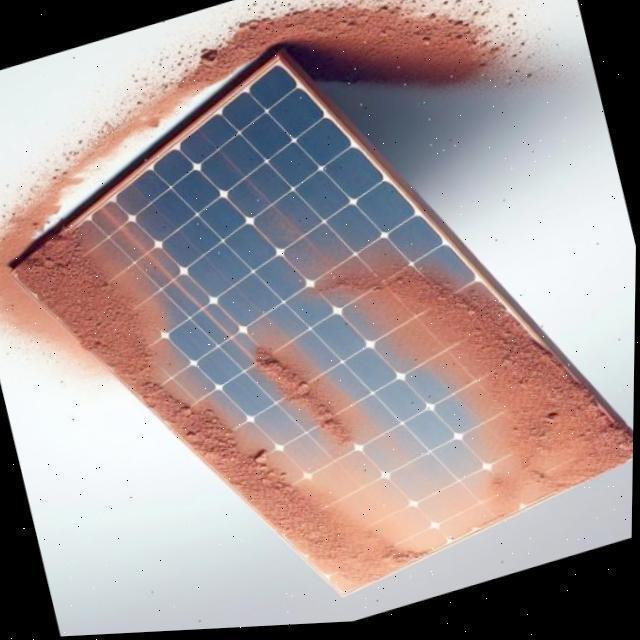Anomaly Solar Panel: (11, 30, 635, 620)
Surface Contaminant: (10, 212, 437, 620), (297, 195, 634, 555), (234, 319, 391, 467)
